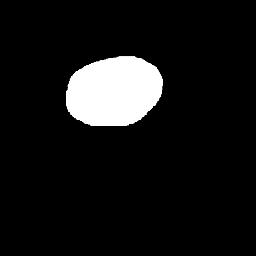mass: (66, 51, 161, 132)
